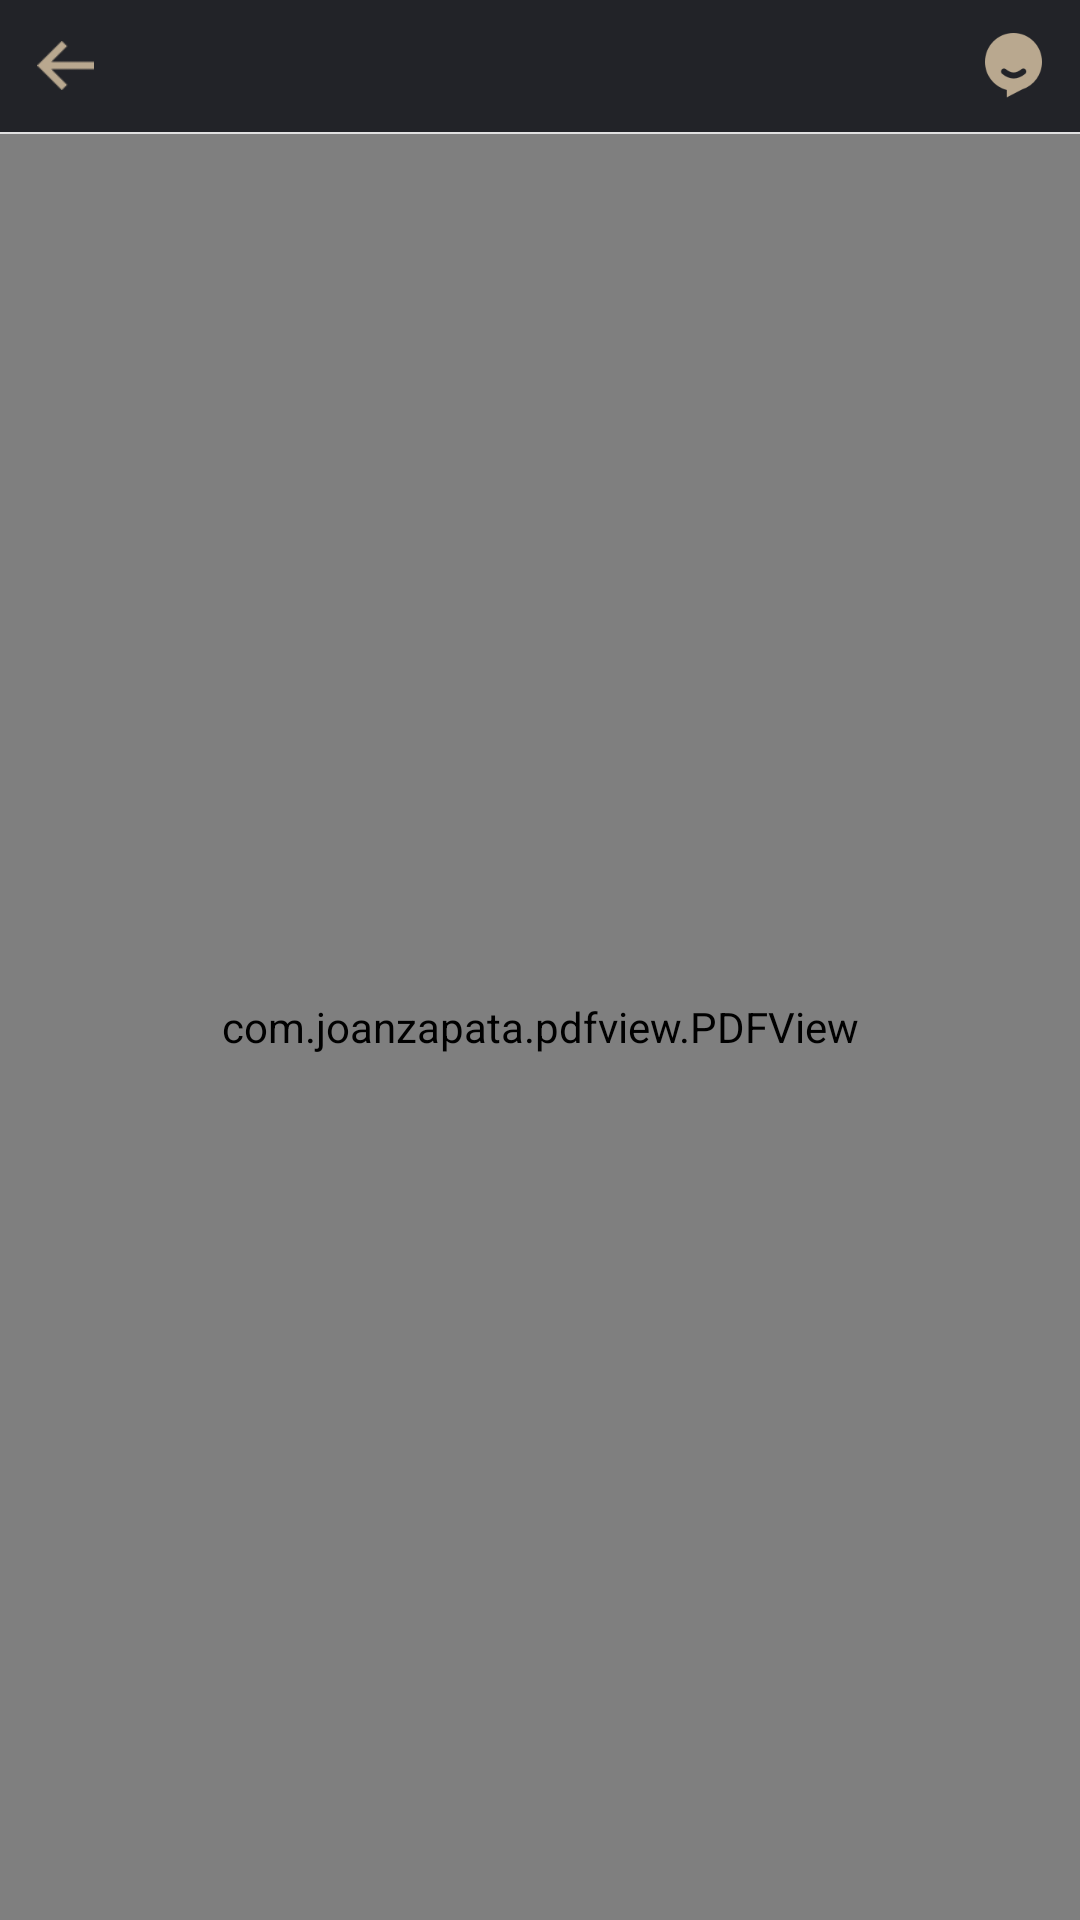

Where to tap for icons on this 1080*1920 app screen, as (x=x, y=y):
back gold: (x=65, y=65)
service: (x=1013, y=65)
